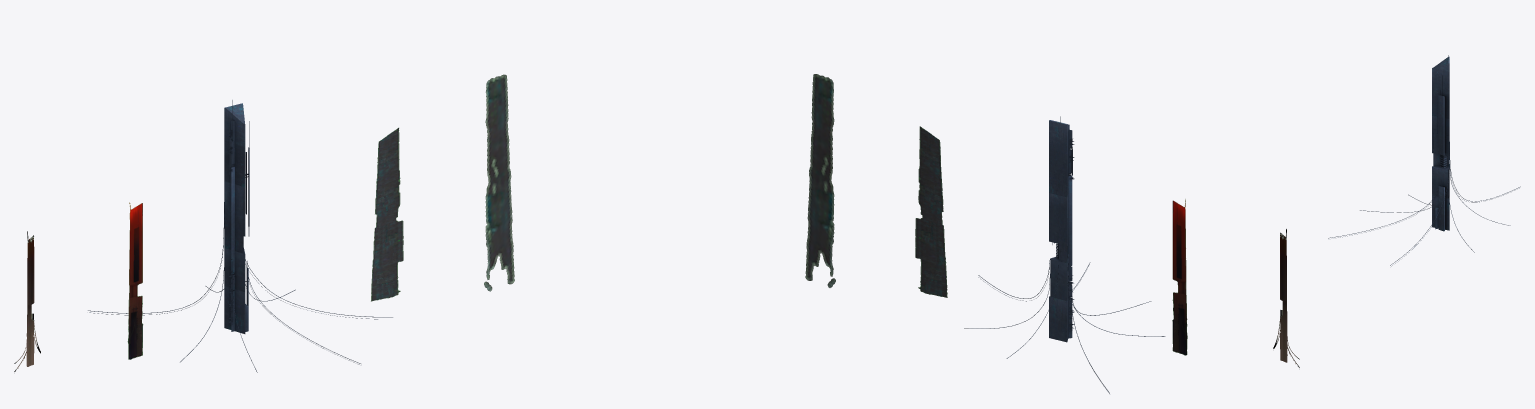
The model's file is citadel_models.glb.
The picture shows the model from 3 angles, left to right: view 1: azimuth 30°, elevation 25°; view 2: azimuth 150°, elevation 25°; view 3: azimuth 270°, elevation 25°; orthographic projection. The views are drawn at different scales.
Parts seen in each view (by area): view 1: Citadel_001_2, Plane.003_4, Plane.002_3, Plane.001_1, Plane_0; view 2: Citadel_001_2, Plane.003_4, Plane.002_3, Plane.001_1, Plane_0; view 3: Citadel_001_2.
Part boxes in pixels (x1,y1,x2,y2): Citadel_001_2: (88,100,392,372); Plane.003_4: (484,74,514,291); Plane.002_3: (371,127,403,301); Plane.001_1: (127,202,143,359); Plane_0: (14,231,40,371); Citadel_001_2: (964,116,1165,393); Plane.003_4: (805,74,835,287); Plane.002_3: (915,126,947,297); Plane.001_1: (1172,199,1187,355); Plane_0: (1273,229,1299,367); Citadel_001_2: (1328,55,1520,266).
Size of the model in its own units: 15.07 by 7.77 by 5.24.
5 materials, 5 textured.
